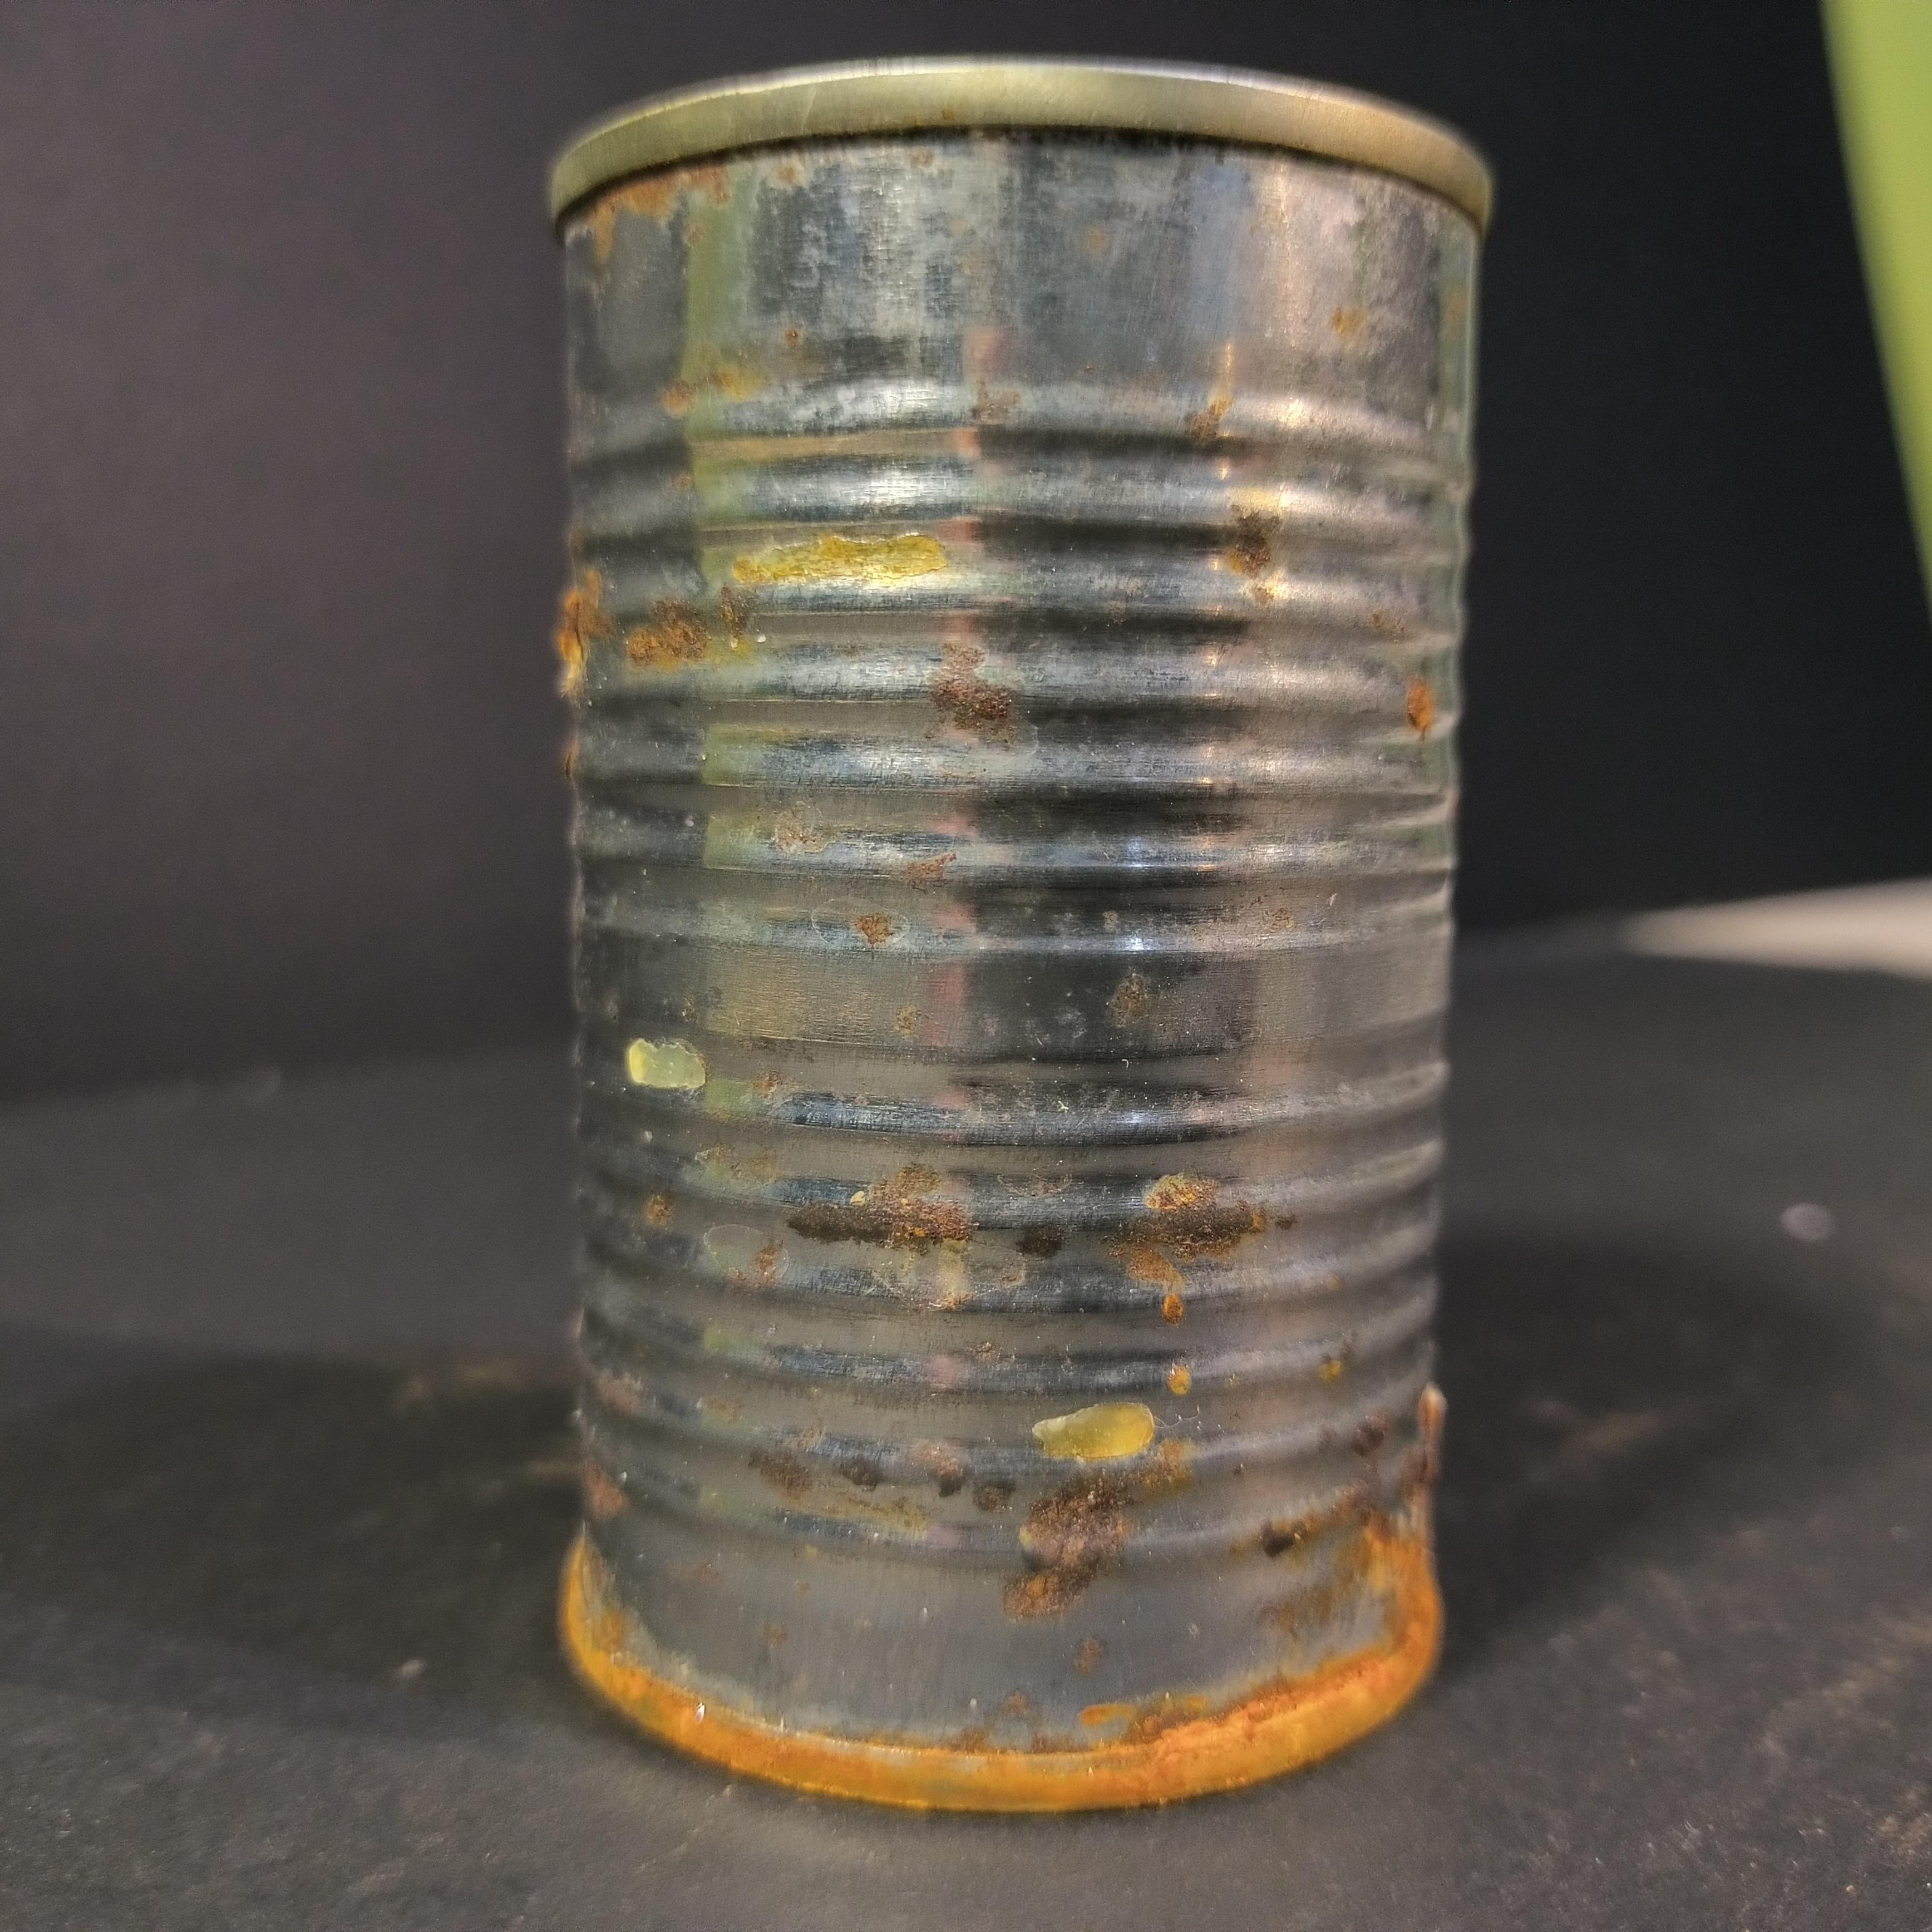Rusted: (517, 35, 1532, 1852)
